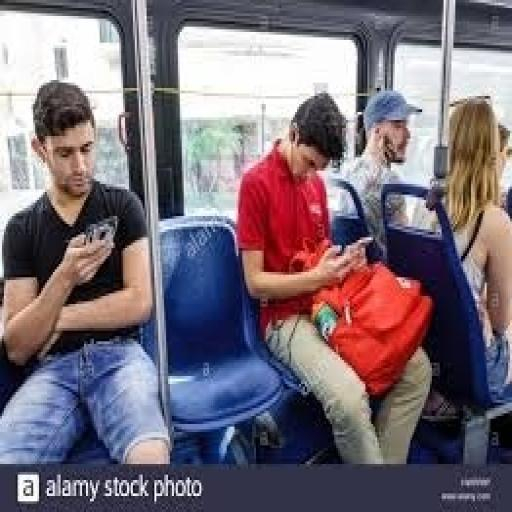sitting: (234, 88, 436, 464), (0, 77, 174, 467), (422, 93, 510, 408), (332, 86, 436, 262)
